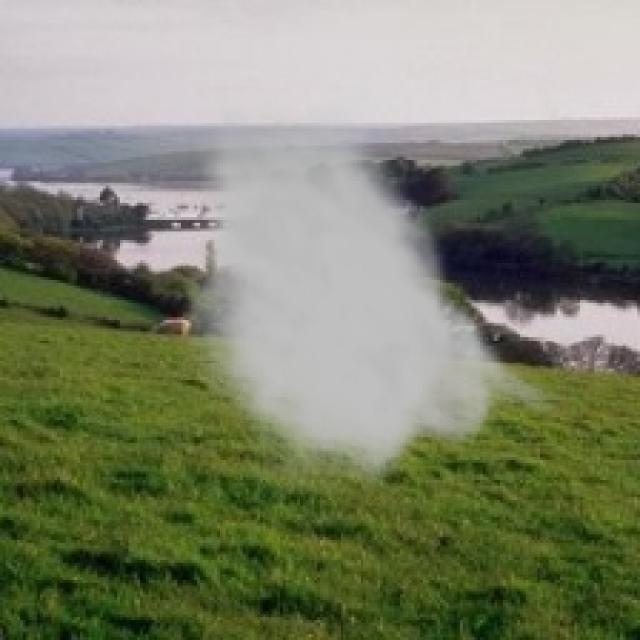smoke: (177, 86, 572, 497)
